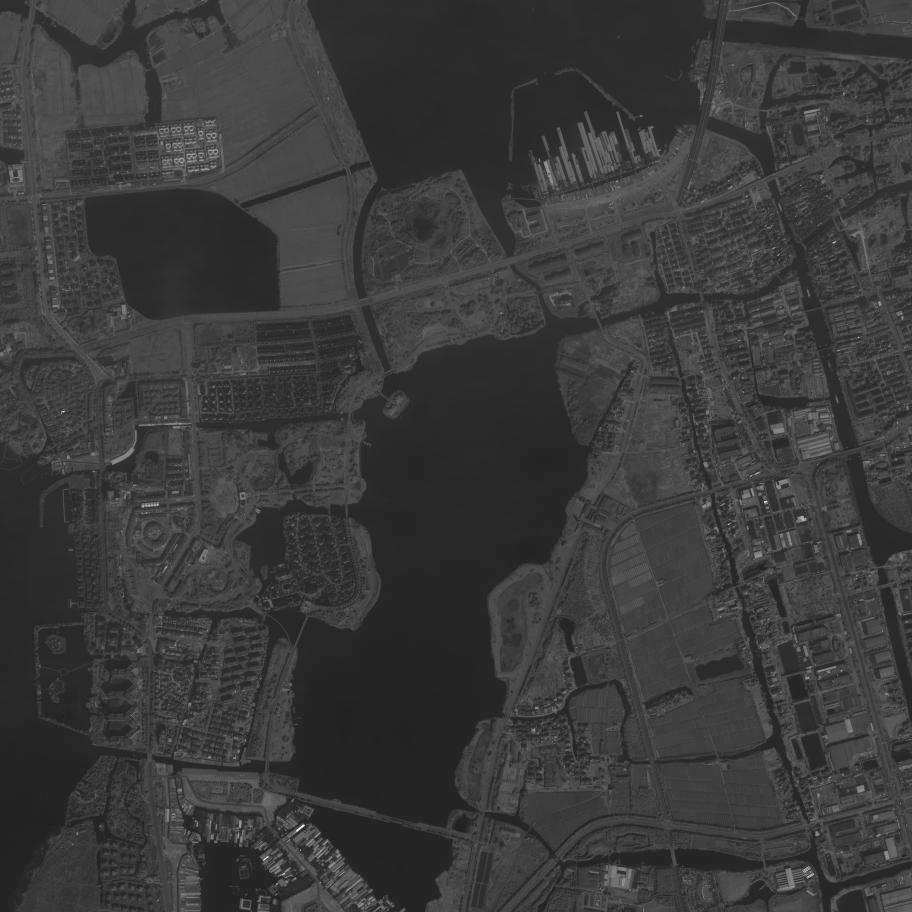ship: (826, 360, 833, 372), (777, 201, 784, 212), (806, 287, 811, 299), (834, 395, 840, 404)
